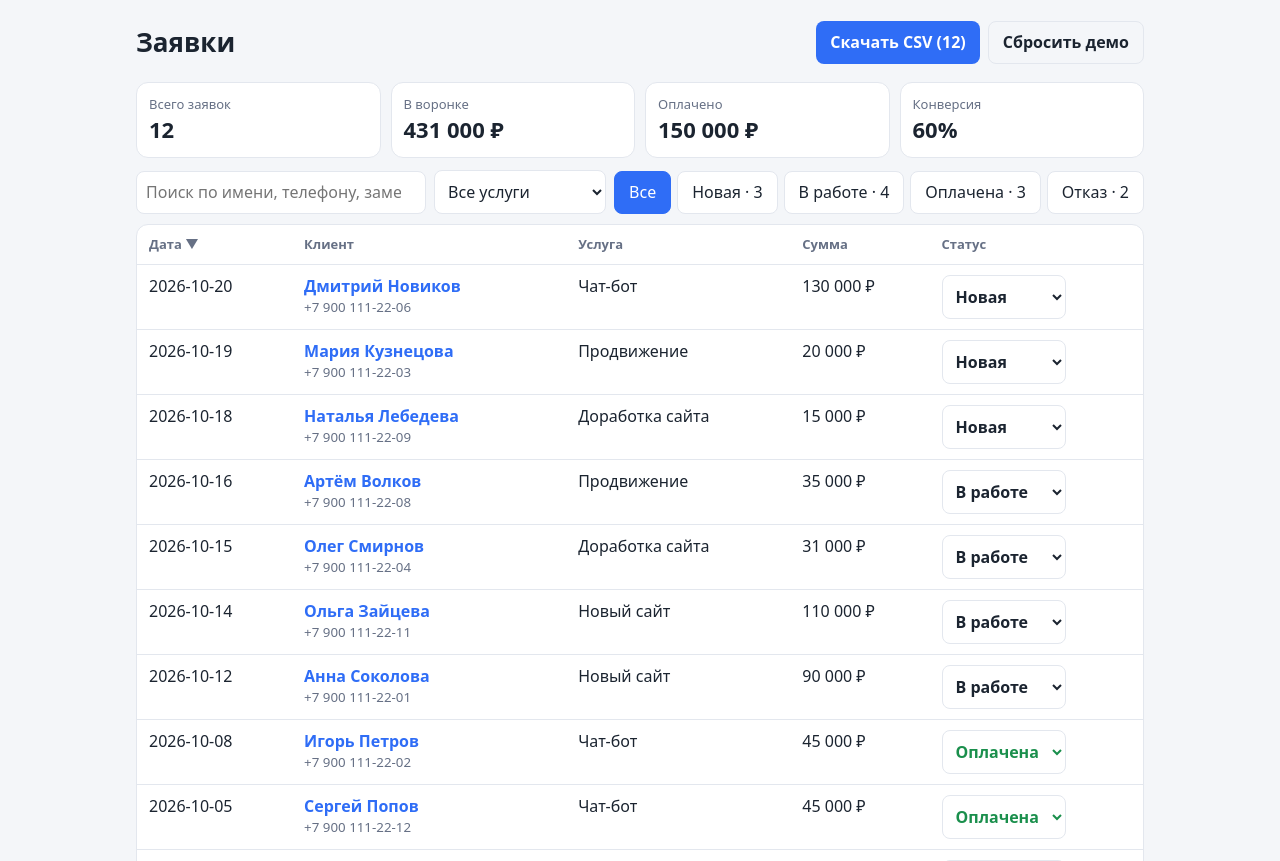
App › поиск сужает таблицу, пустой результат показывает подсказку
The width and height of the screenshot is (1280, 861).
Type "Соколова" into the search field labelled "Поиск" at (281, 192), box [136,171,426,214]
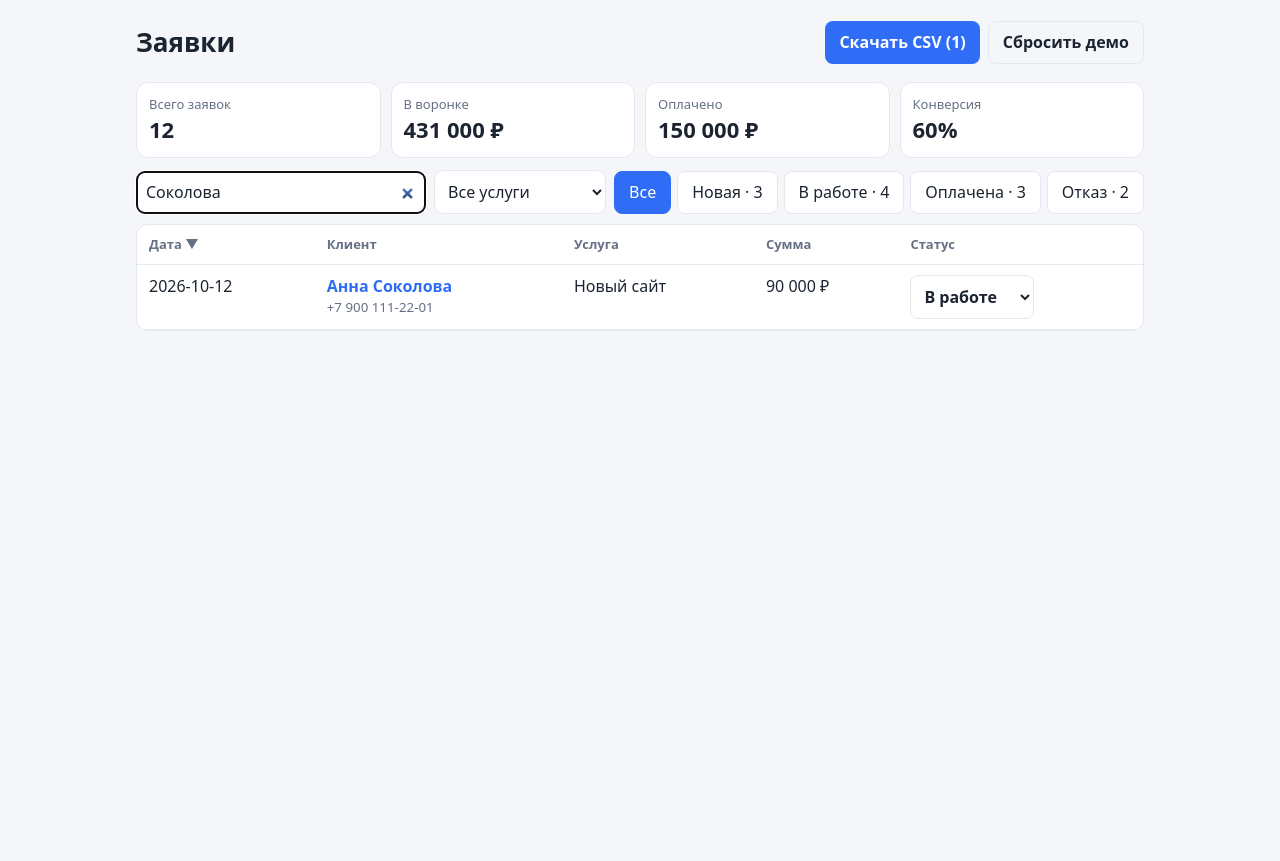
Replace the text in the search field named "Поиск" with "такого нет" at (281, 192), box [136,171,426,214]
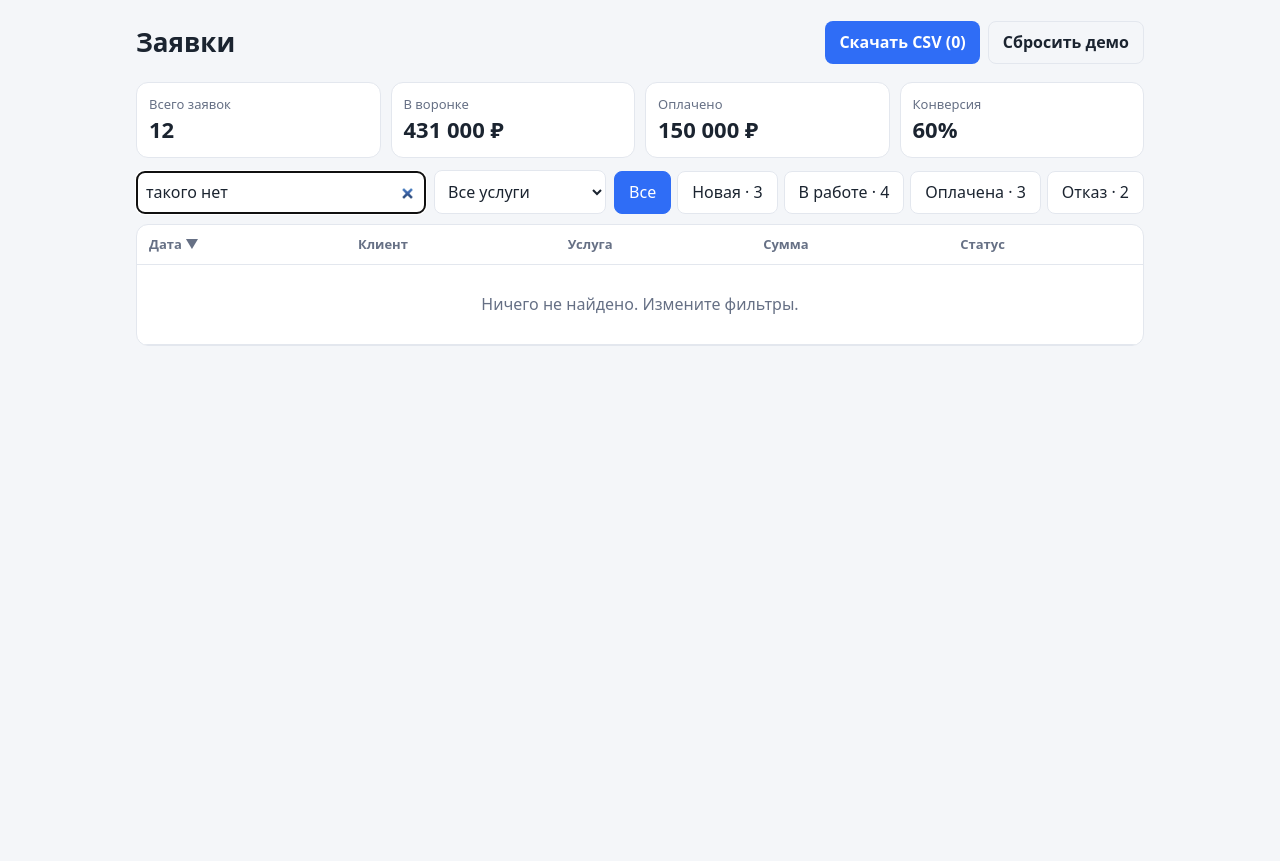
Check: the text "Ничего не найдено. Измените фильтры." is shown, box [137,265,1143,345]
